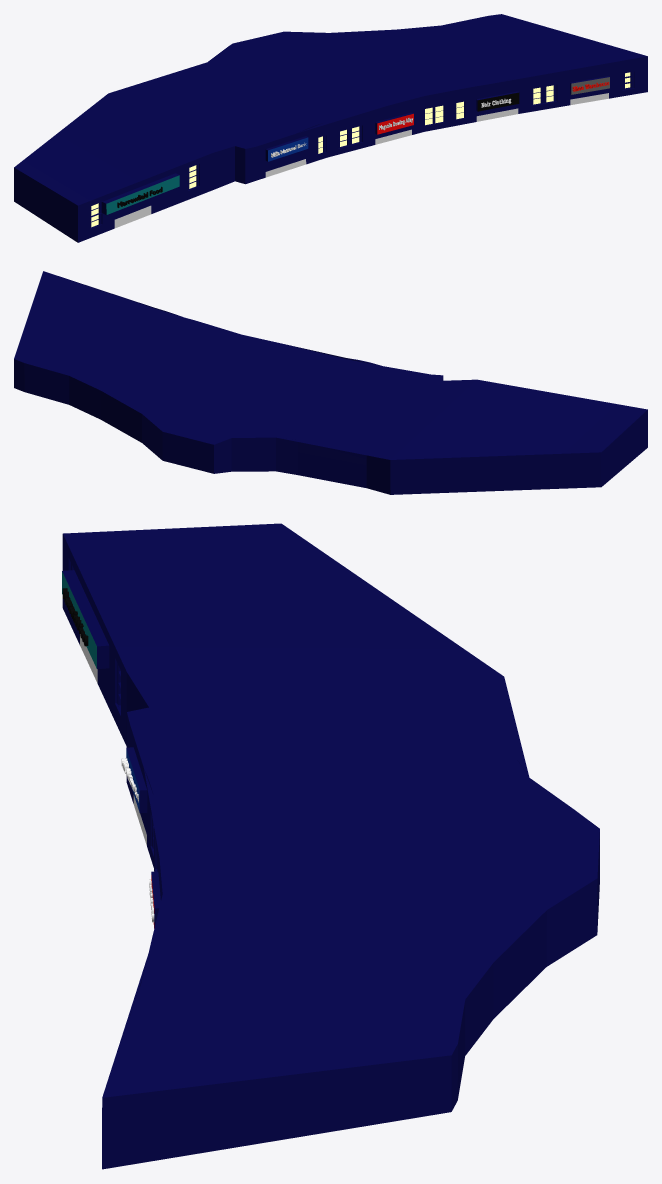
The model's file is magnolia_retail_park.fbx.
3 renders of one model, top to bottom at view 1: azimuth 30°, elevation 25°; view 2: azimuth 150°, elevation 25°; view 3: azimuth 270°, elevation 25°, orthographic. The views are drawn at different scales.
Visible parts, largest first — view 1: Plane; view 2: Plane; view 3: Plane.
Boxes of the visible parts, left/top/right/bottom form: Plane: left=14, top=14, right=647, bottom=242; Plane: left=14, top=271, right=647, bottom=494; Plane: left=62, top=523, right=599, bottom=1169.
Size of the model in its own units: 905 by 64.59 by 358.
